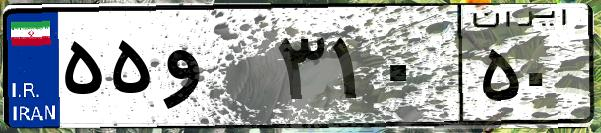0: (385, 28, 445, 110), (525, 38, 570, 115)
1: (330, 28, 385, 110)
3: (270, 28, 330, 110)
5: (57, 26, 110, 100), (475, 38, 525, 113), (110, 28, 158, 98)
و: (158, 20, 270, 120)
